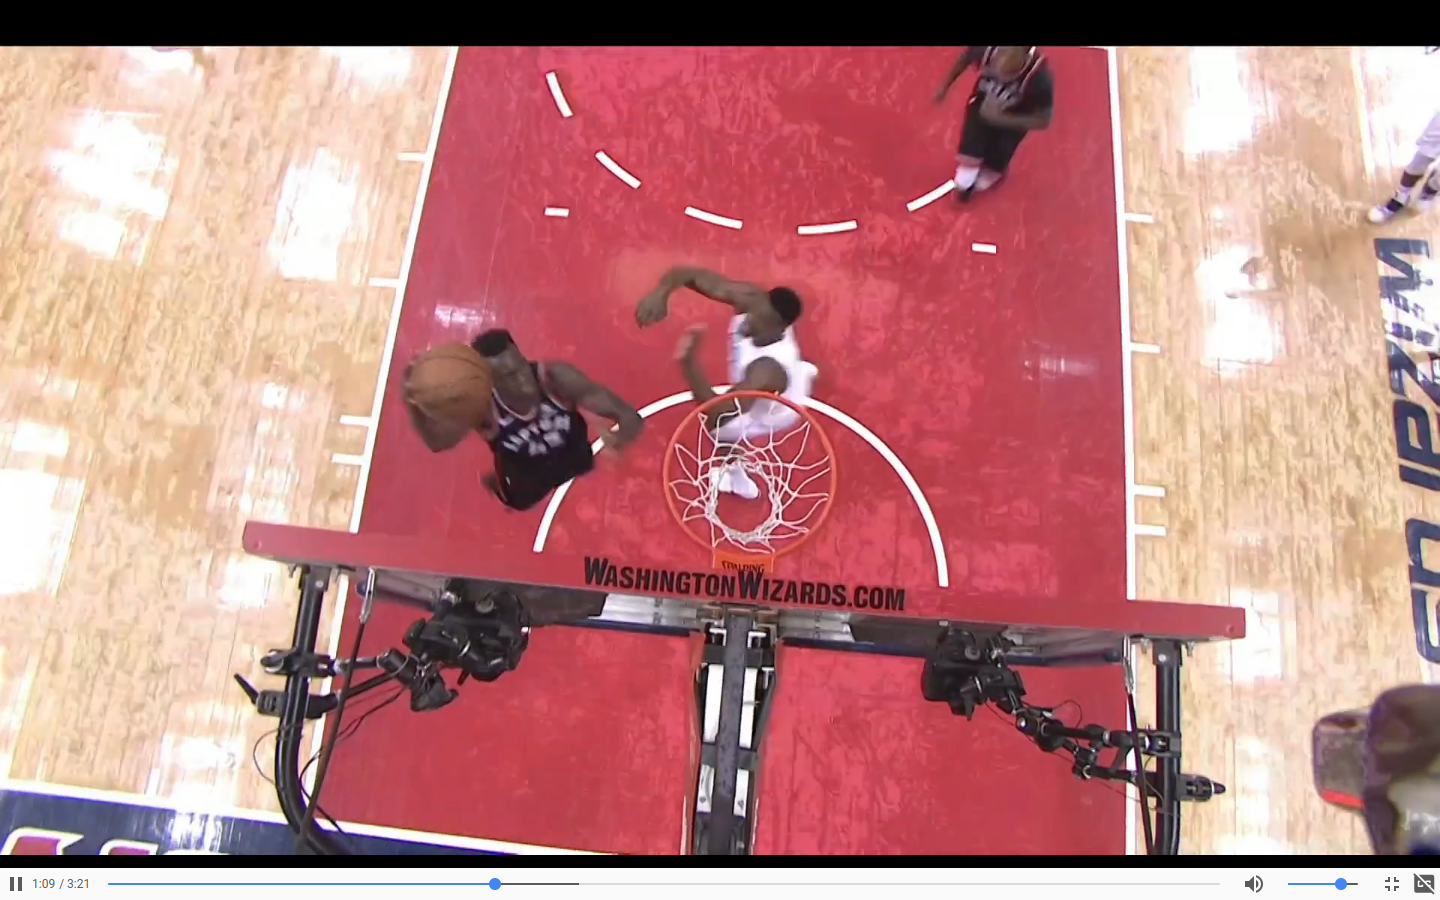basketball: (412, 336, 498, 429)
basketball player: (642, 262, 819, 500), (470, 332, 645, 512), (932, 43, 1064, 212)
